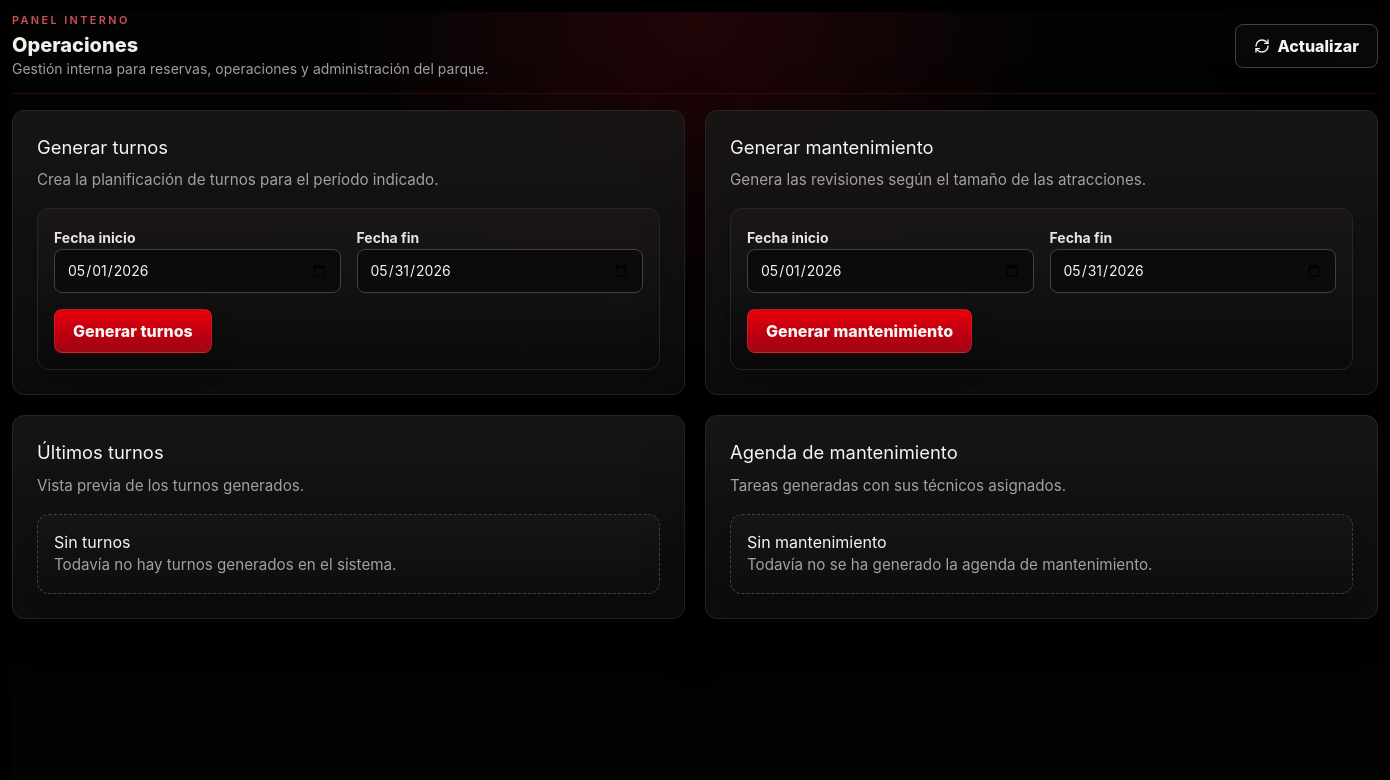
Test: DashboardPage › generates shifts and maintenance from the operations tab
Click the button "Generar turnos". click: (133, 331)
box: [54,309,212,353]
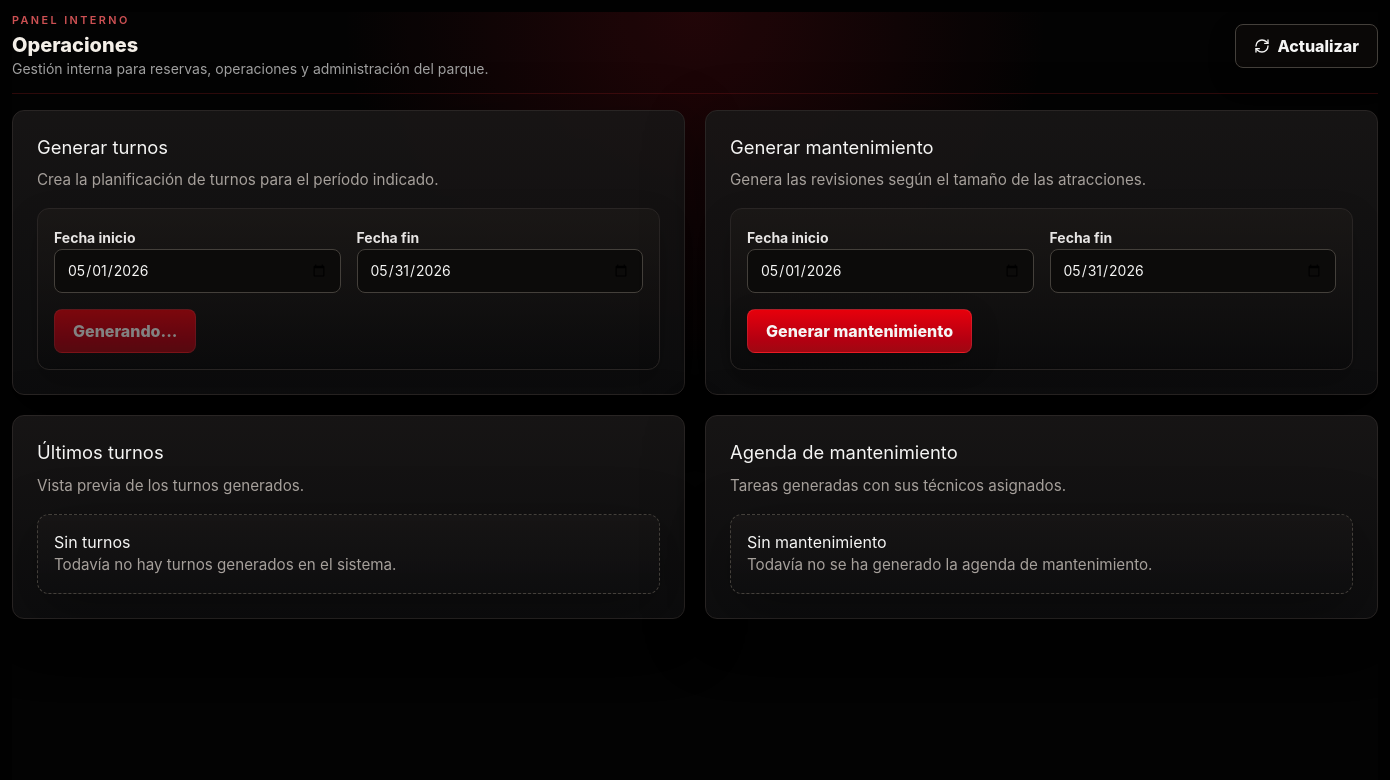
Click the button "Generar mantenimiento". click: (860, 331)
box: [747,309,972,353]
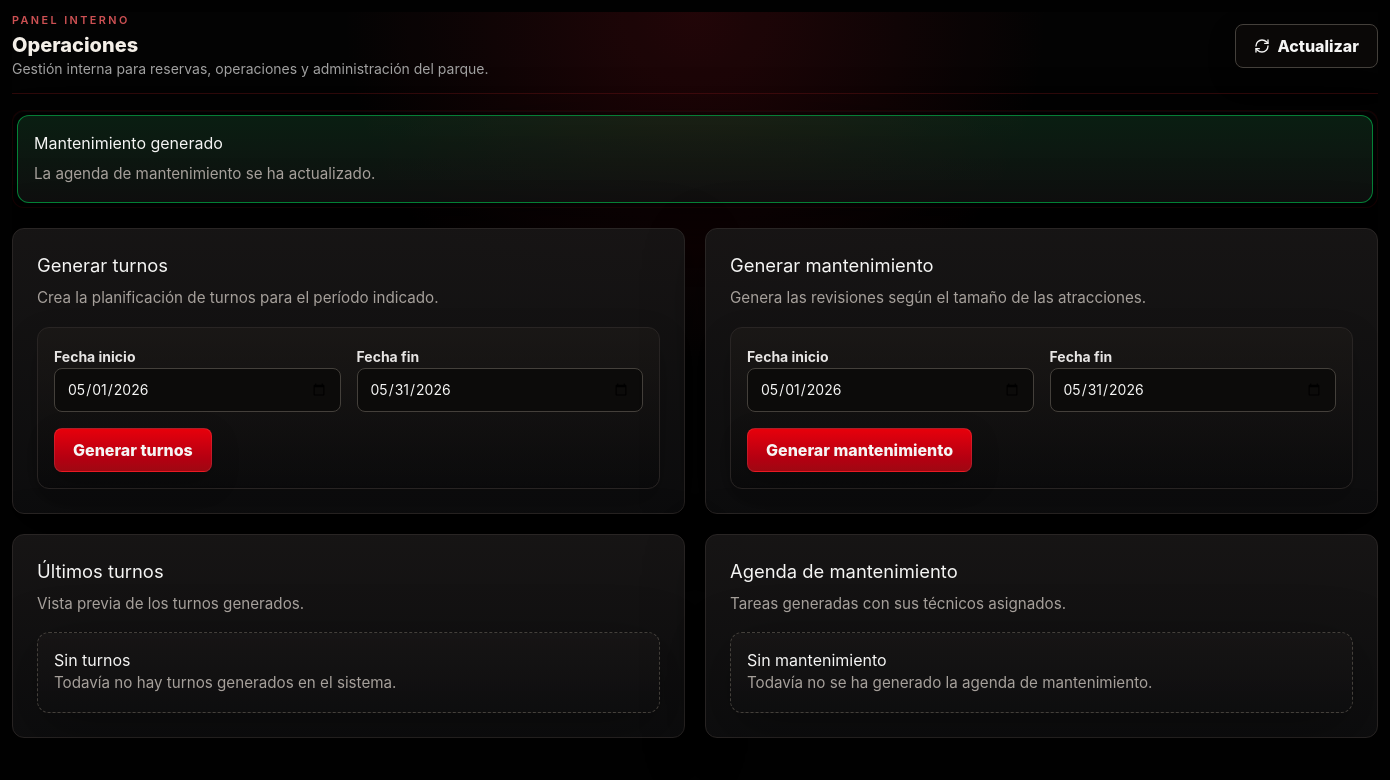
Check: the text "La agenda de mantenimiento se ha actualizado." is shown, box [34,164,375,183]
